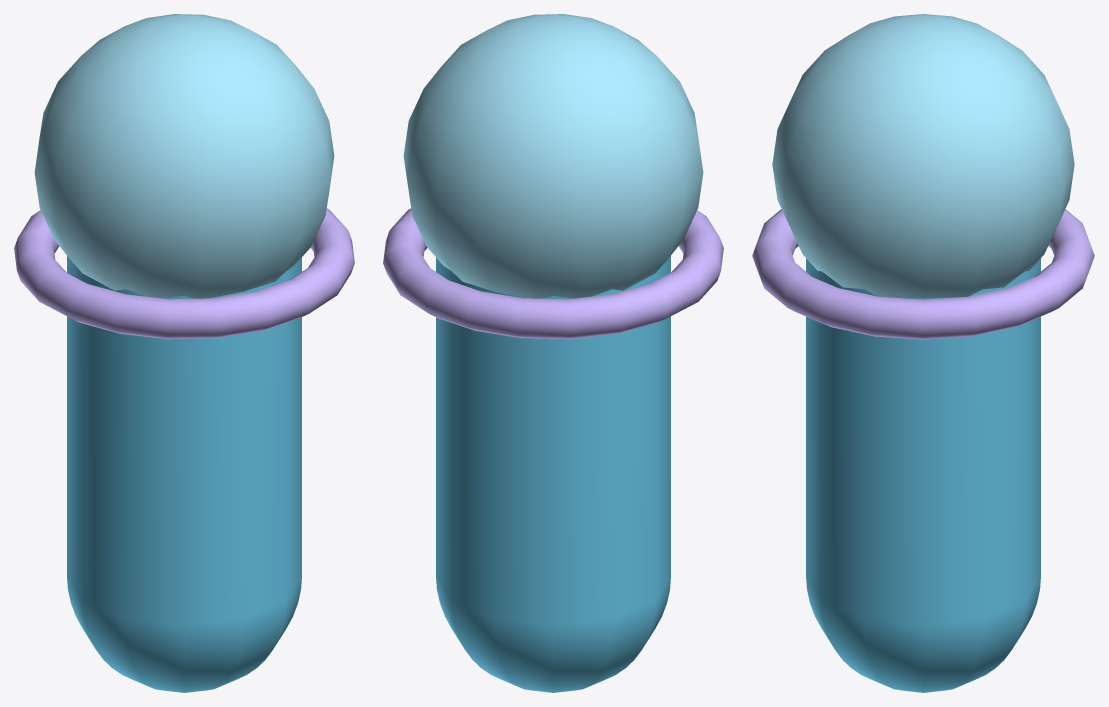
Rendered from alien.glb.
3 views of the same model, side by side, from view 1: azimuth 30°, elevation 25°; view 2: azimuth 150°, elevation 25°; view 3: azimuth 270°, elevation 25° (orthographic).
Bounding box in the file's own units: 1.02 × 2.15 × 1.02.
